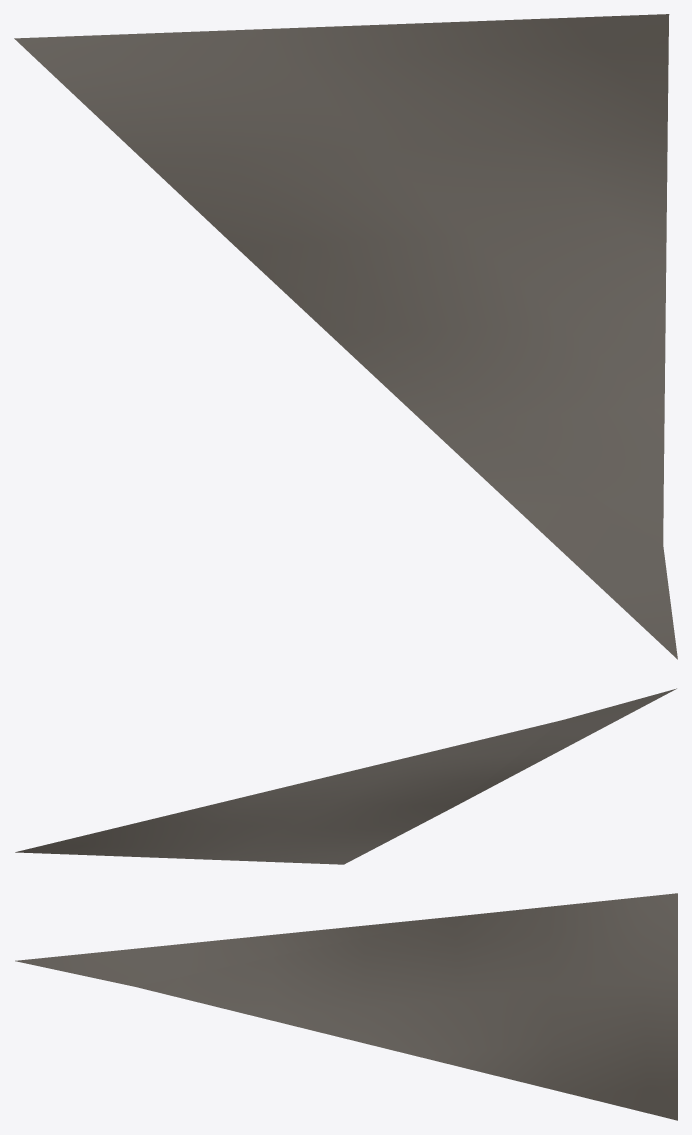
3 views of the same model, one above another, from view 1: azimuth 30°, elevation 25°; view 2: azimuth 150°, elevation 25°; view 3: azimuth 270°, elevation 25° (orthographic). The views are drawn at different scales.
Size of the model in its own units: 0.0133 by 0.00262 by 0.0233.
1 material, 1 textured.
